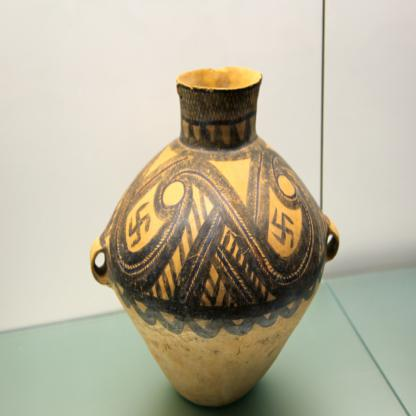vase: (90, 67, 338, 410)
